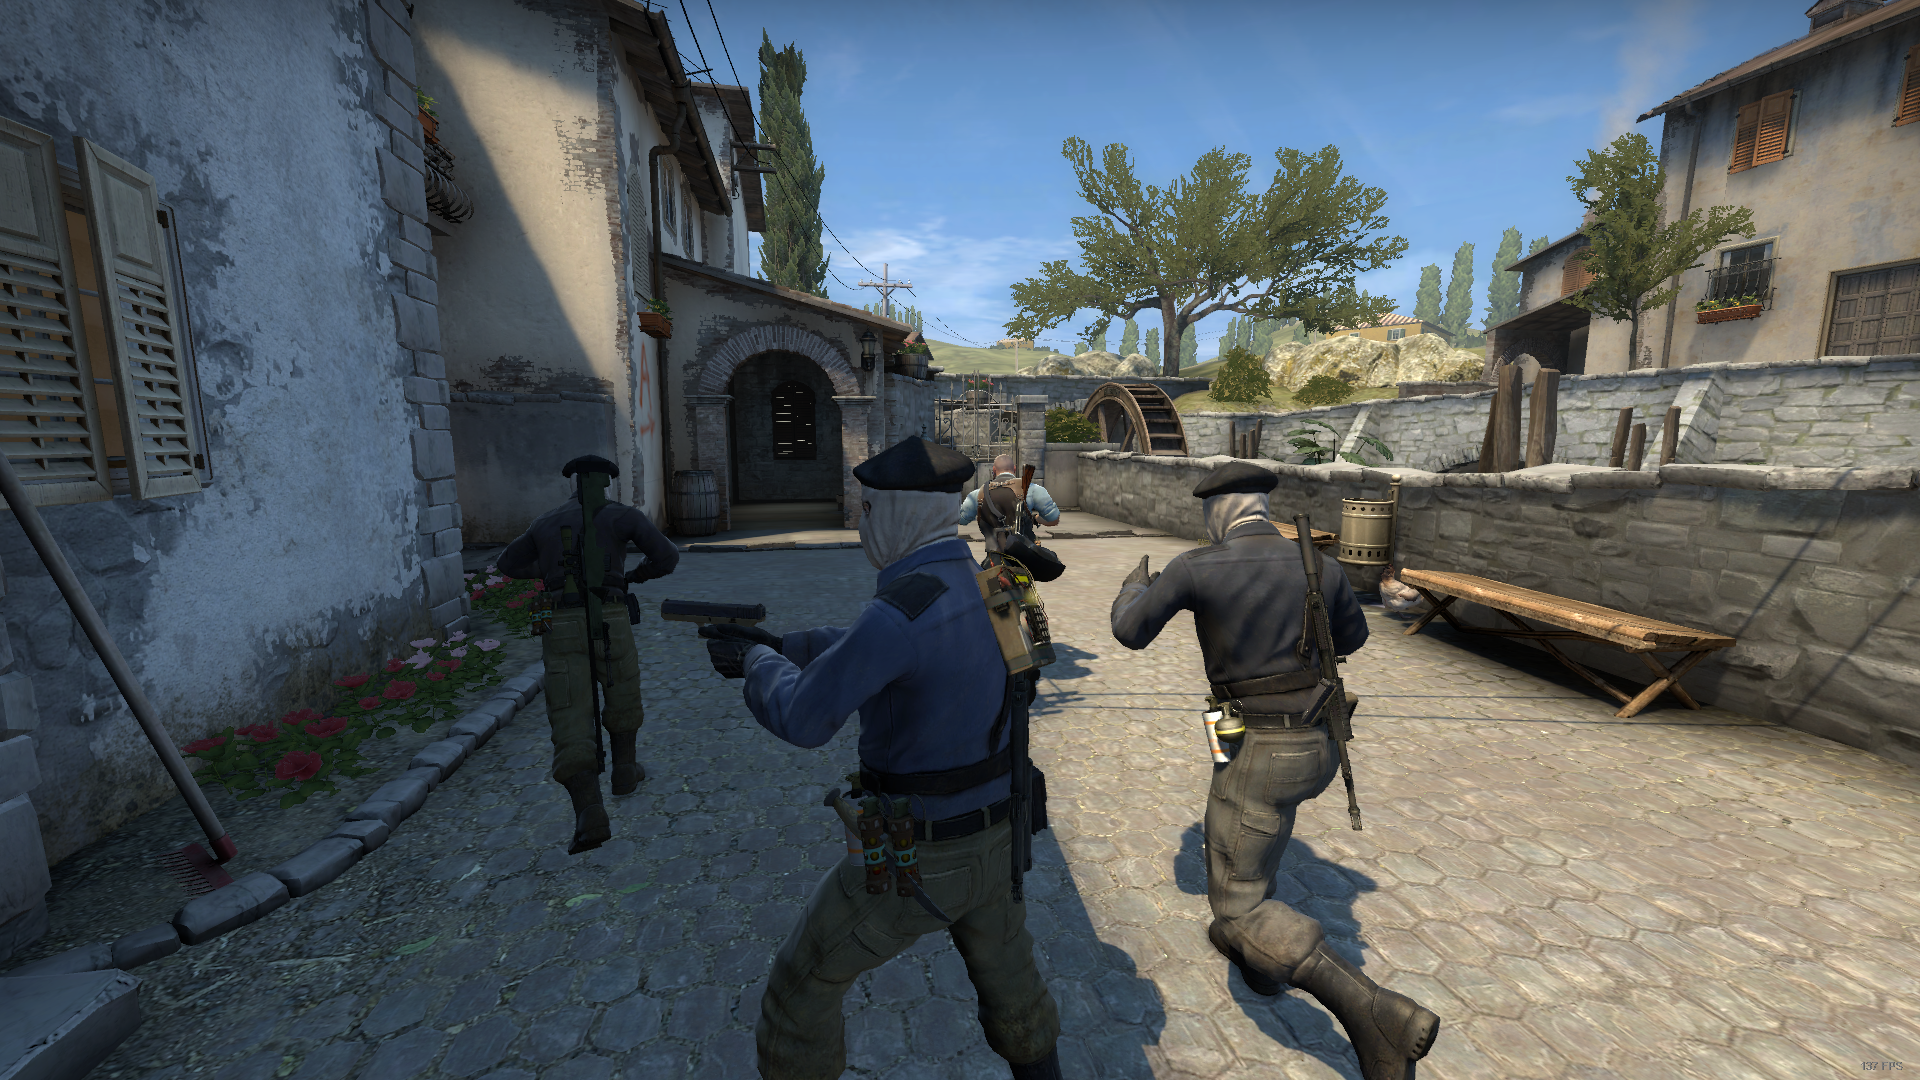t: (711, 435, 1065, 1080), (1110, 459, 1441, 1080), (495, 454, 683, 855)
